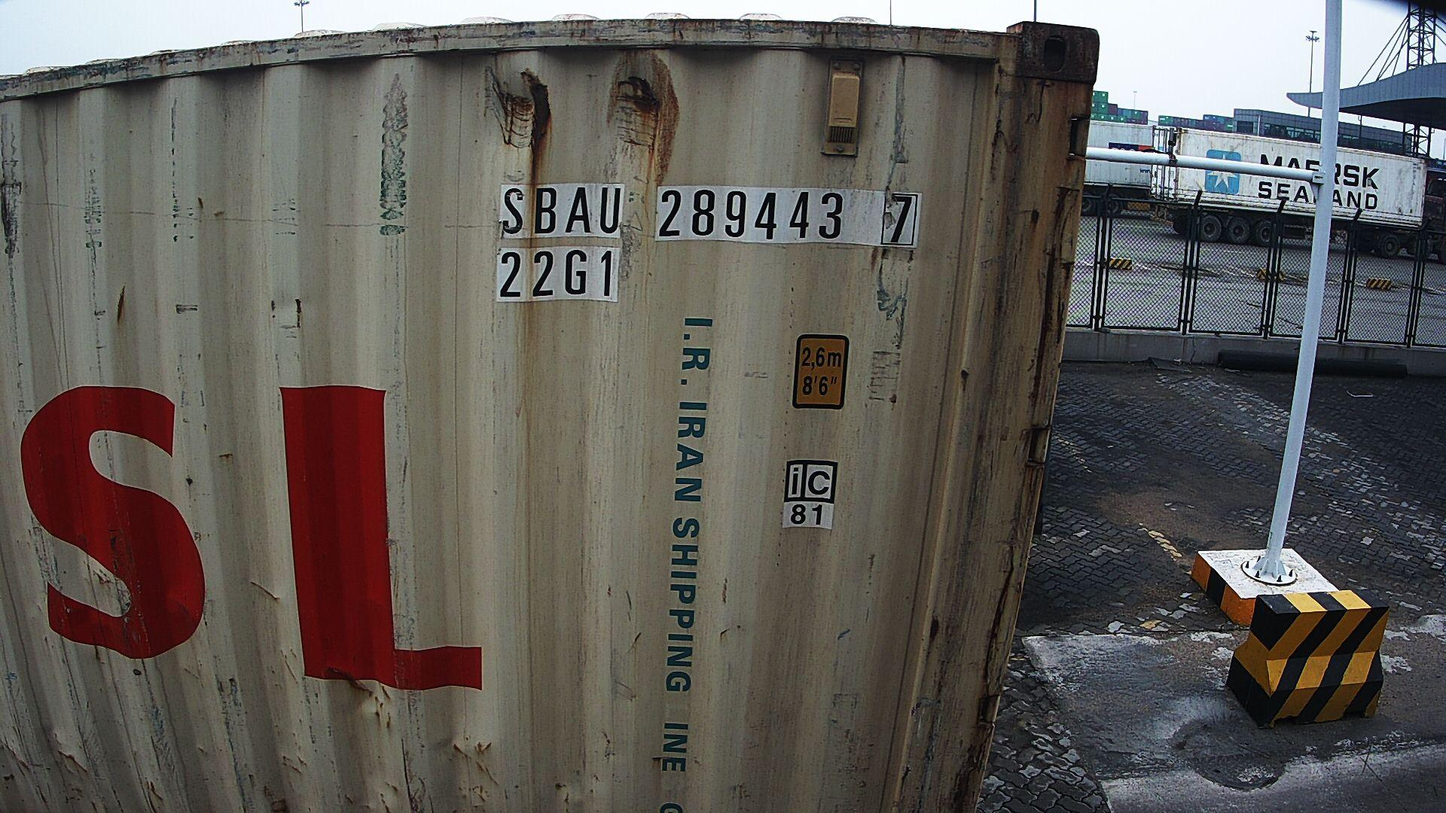container-numbers: (494, 182, 927, 247), (493, 245, 622, 305)
